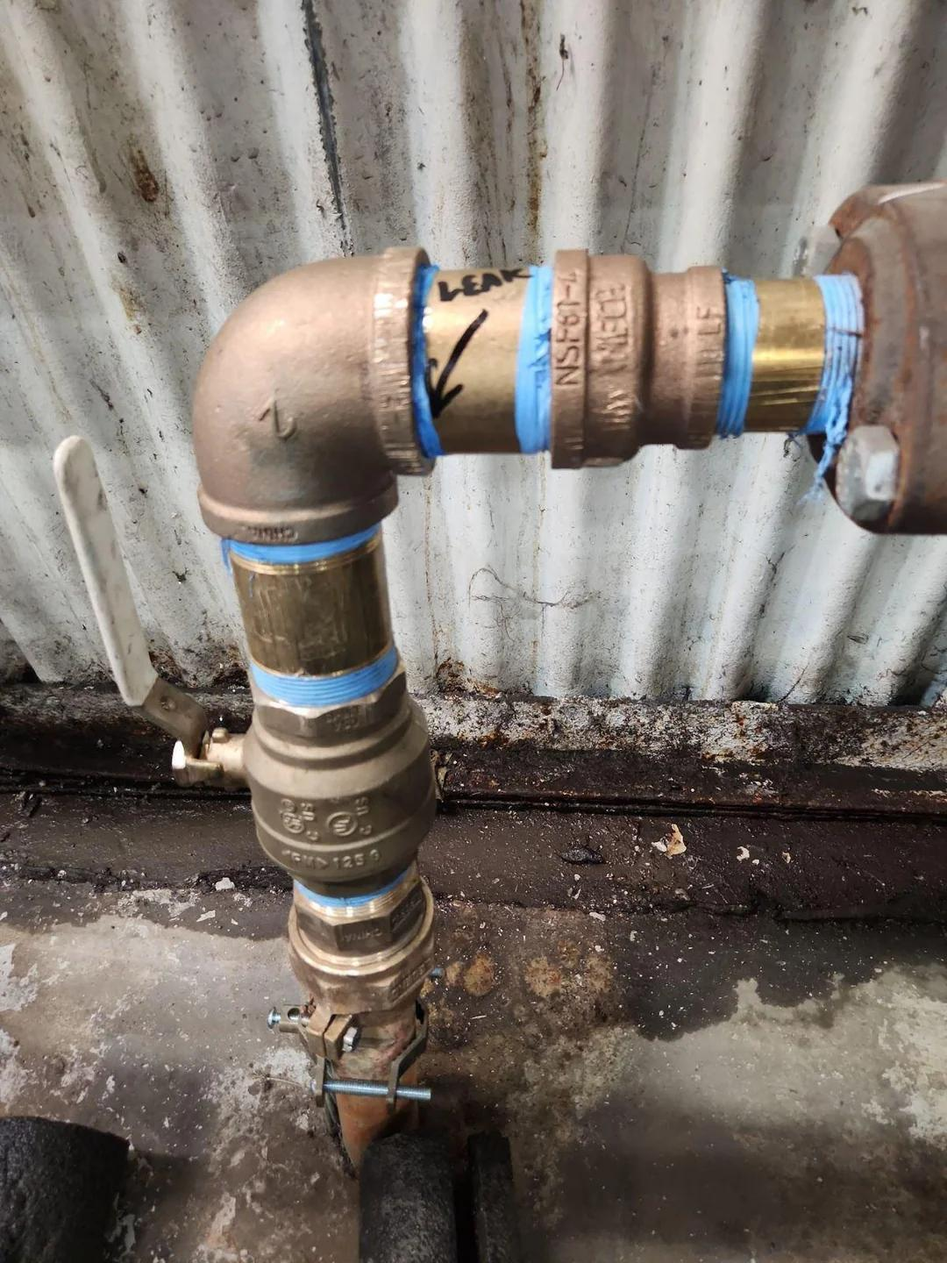water accumulation: (2, 720, 947, 1093)
